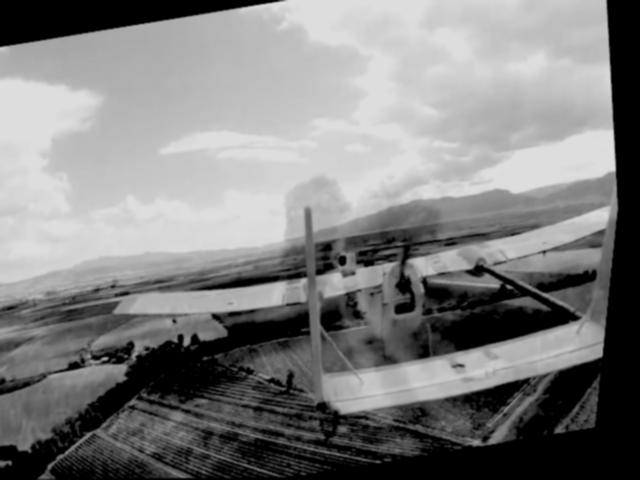hedef: (81, 89, 632, 479)
